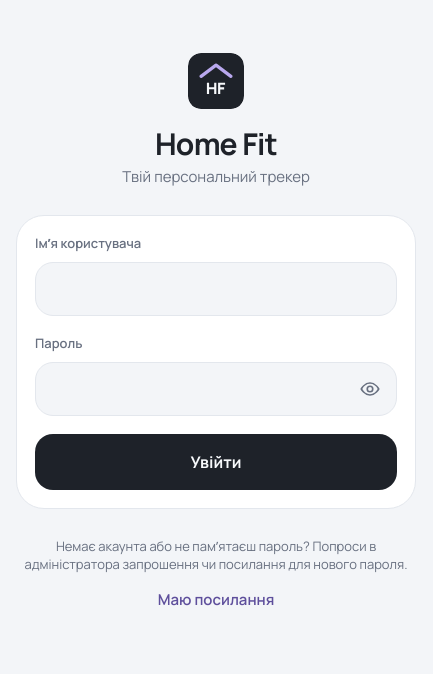
it: LoginScreen › explains a failed login ({"name":"ApiError","status":401,"code":"bad_credentials"})
Type "olya" into the field labelled "Імʼя користувача" at (216, 289), box [35,262,397,316]
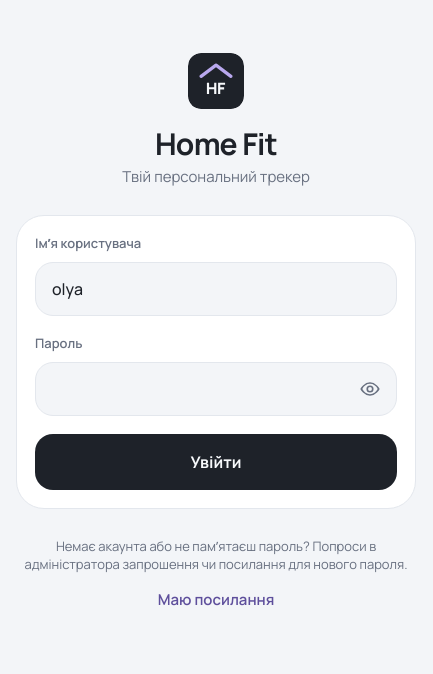
Type "pw" into the password field labelled "Пароль" at (216, 389), box [35,362,397,416]
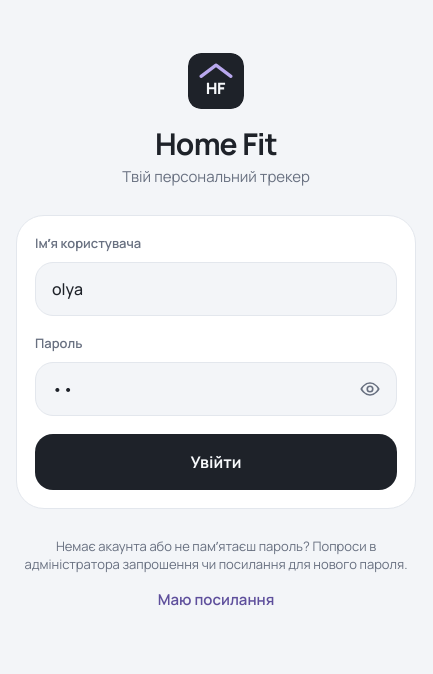
Click the button "Увійти" at (216, 462), box [35,434,397,490]
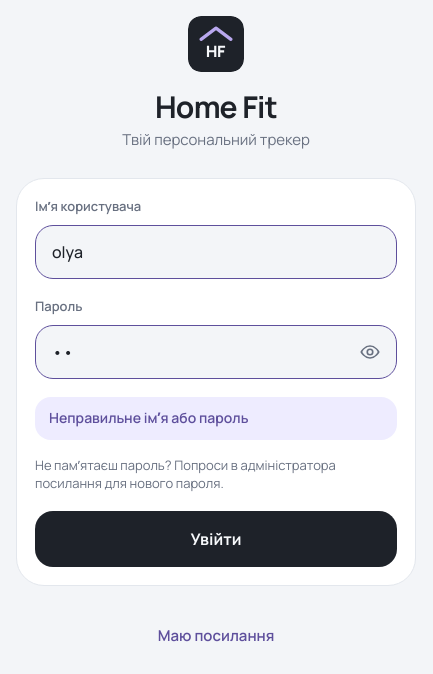
Expected: the button "Увійти" is shown, [35,511,397,567]
Expected: the message reads "Неправильне імʼя або пароль", [49,408,248,427]
Type "pw2" into the password field labelled "Пароль" at (216, 352), box [35,325,397,379]
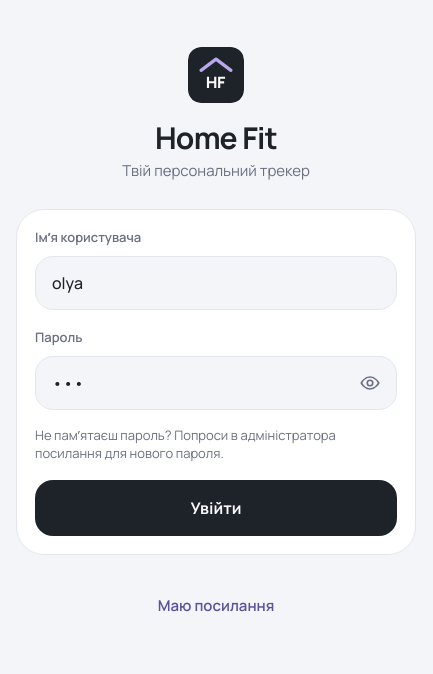
Expected: the message "Неправильне імʼя або пароль" is gone
